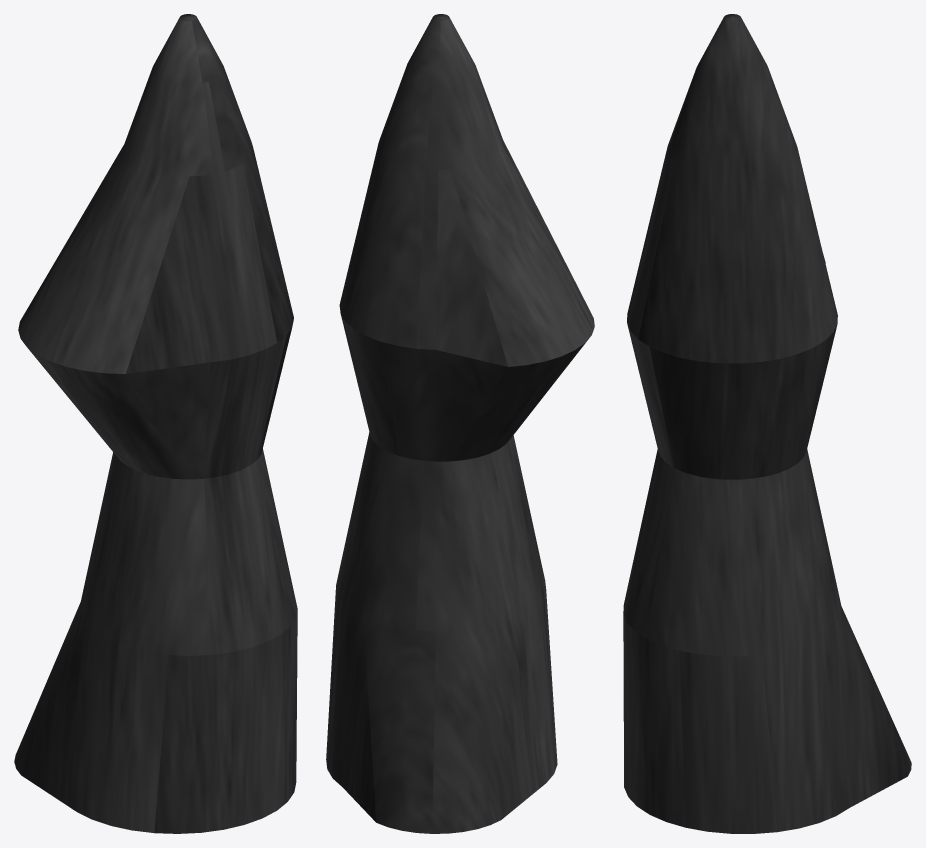
Rendered from HellPillarMedium.fbx.
3 views of the same model, side by side, from view 1: azimuth 30°, elevation 25°; view 2: azimuth 150°, elevation 25°; view 3: azimuth 270°, elevation 25° (orthographic). The views are drawn at different scales.
Visible parts, largest first — view 1: Cylinder.010; view 2: Cylinder.010; view 3: Cylinder.010.
Part boxes in pixels (x1=…): Cylinder.010: x1=14, y1=14, x2=297, y2=833; Cylinder.010: x1=326, y1=14, x2=594, y2=833; Cylinder.010: x1=623, y1=14, x2=911, y2=833.
Size of the model in its own units: 88.31 by 261 by 88.83.
